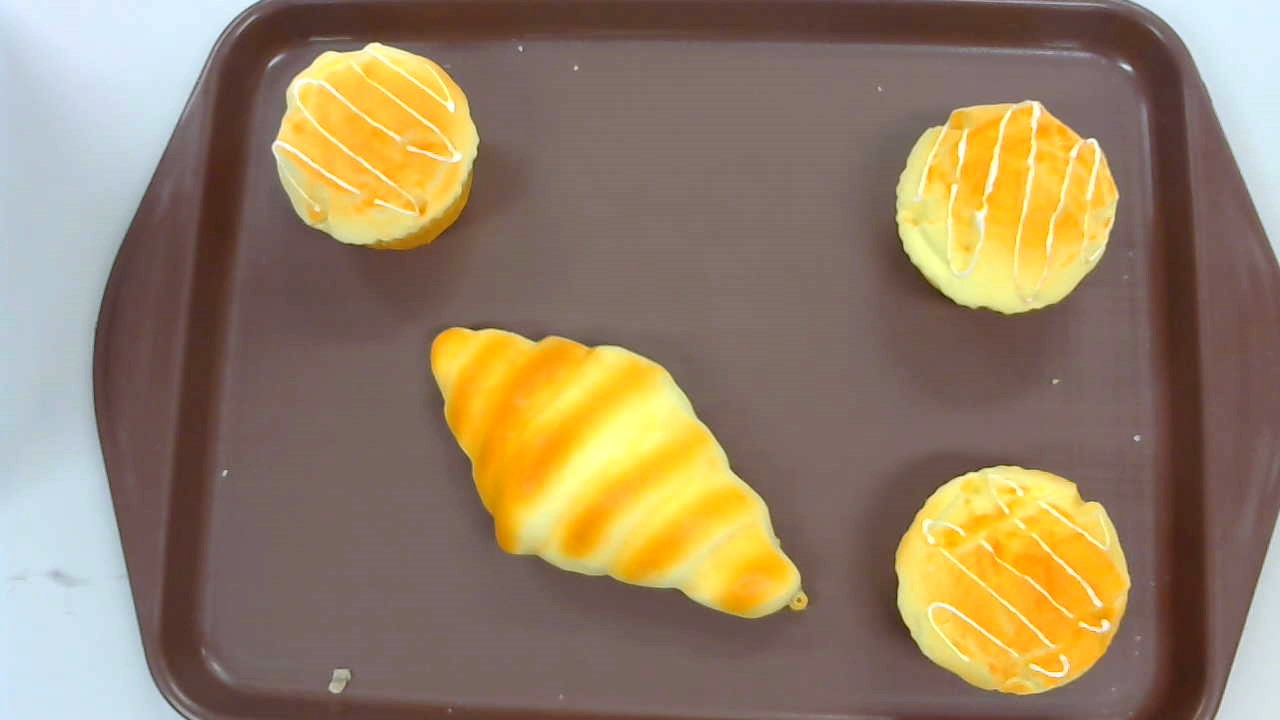croissant: (429, 325, 810, 619)
cupcake: (894, 466, 1132, 697), (895, 97, 1121, 314), (270, 42, 481, 251)
